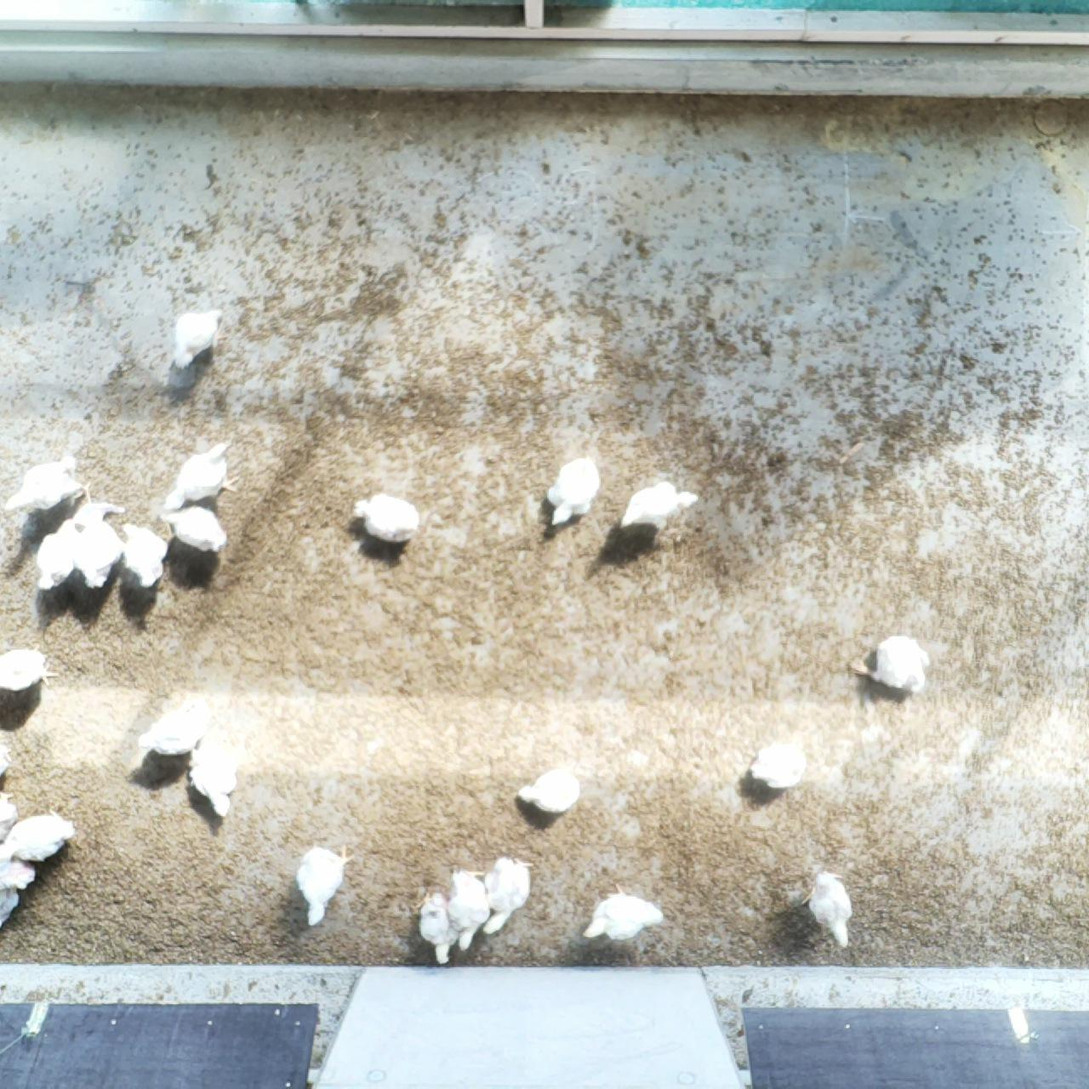chicken: (159, 436, 246, 517), (0, 450, 94, 522), (617, 476, 700, 553), (844, 630, 933, 698), (187, 718, 246, 820), (295, 836, 357, 931), (580, 878, 666, 944), (134, 690, 213, 760), (801, 868, 858, 953), (545, 455, 606, 531), (482, 855, 536, 937), (444, 864, 493, 954), (0, 809, 79, 862), (170, 304, 228, 375), (352, 488, 423, 545), (69, 518, 125, 590), (515, 762, 585, 817), (159, 500, 230, 554), (35, 513, 81, 596), (118, 520, 168, 593), (413, 889, 459, 967), (746, 738, 809, 790), (0, 641, 60, 693), (66, 480, 129, 527), (0, 846, 40, 895), (0, 788, 20, 845)
